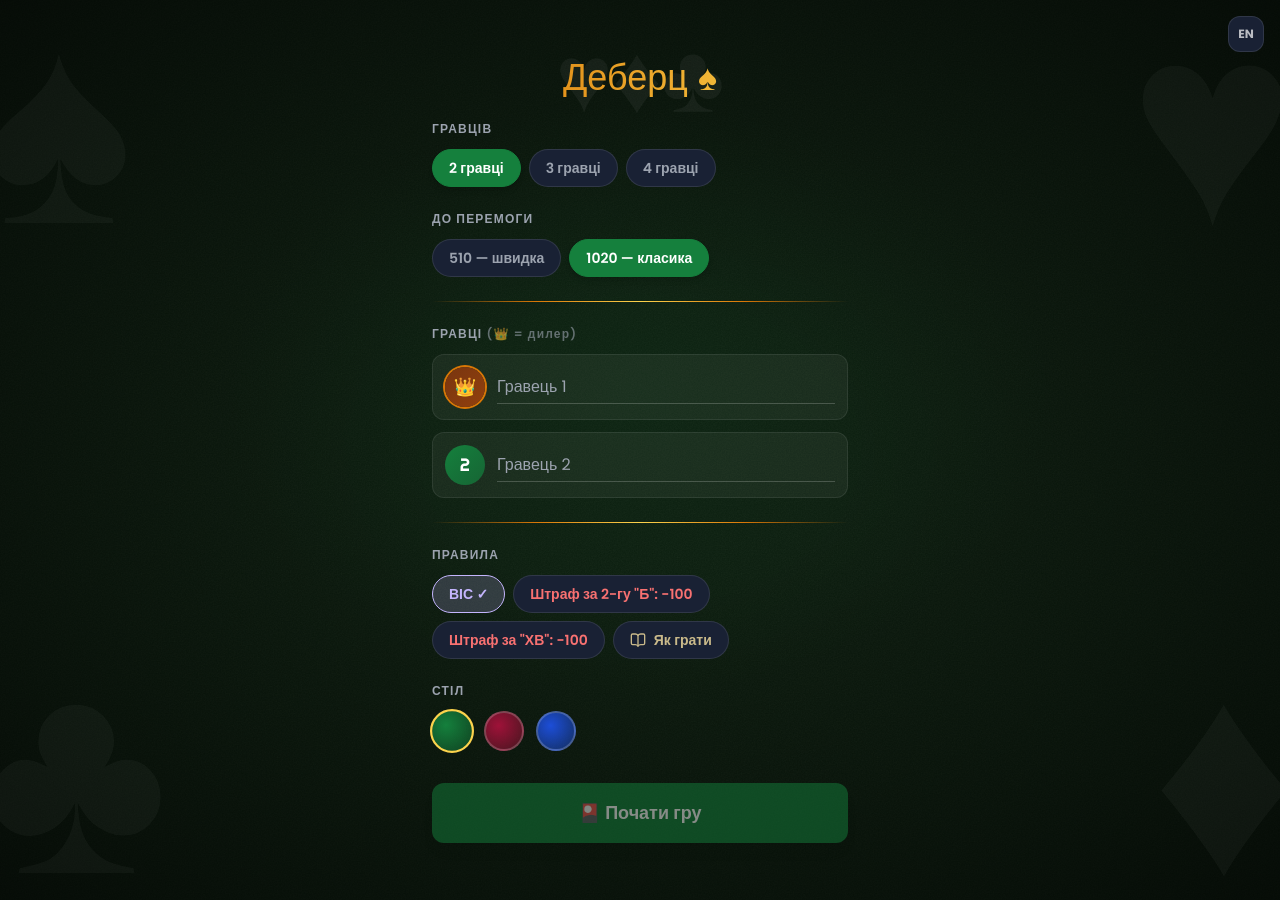
Scenario: SetupScreen — duplicate player names › blocks start and shows a warning on an exact duplicate name
Type "Іван" into the dropdown with placeholder "Гравець 1".
click(666, 387); type("Іван")  # box top-left (497, 370), bottom-right (835, 404)
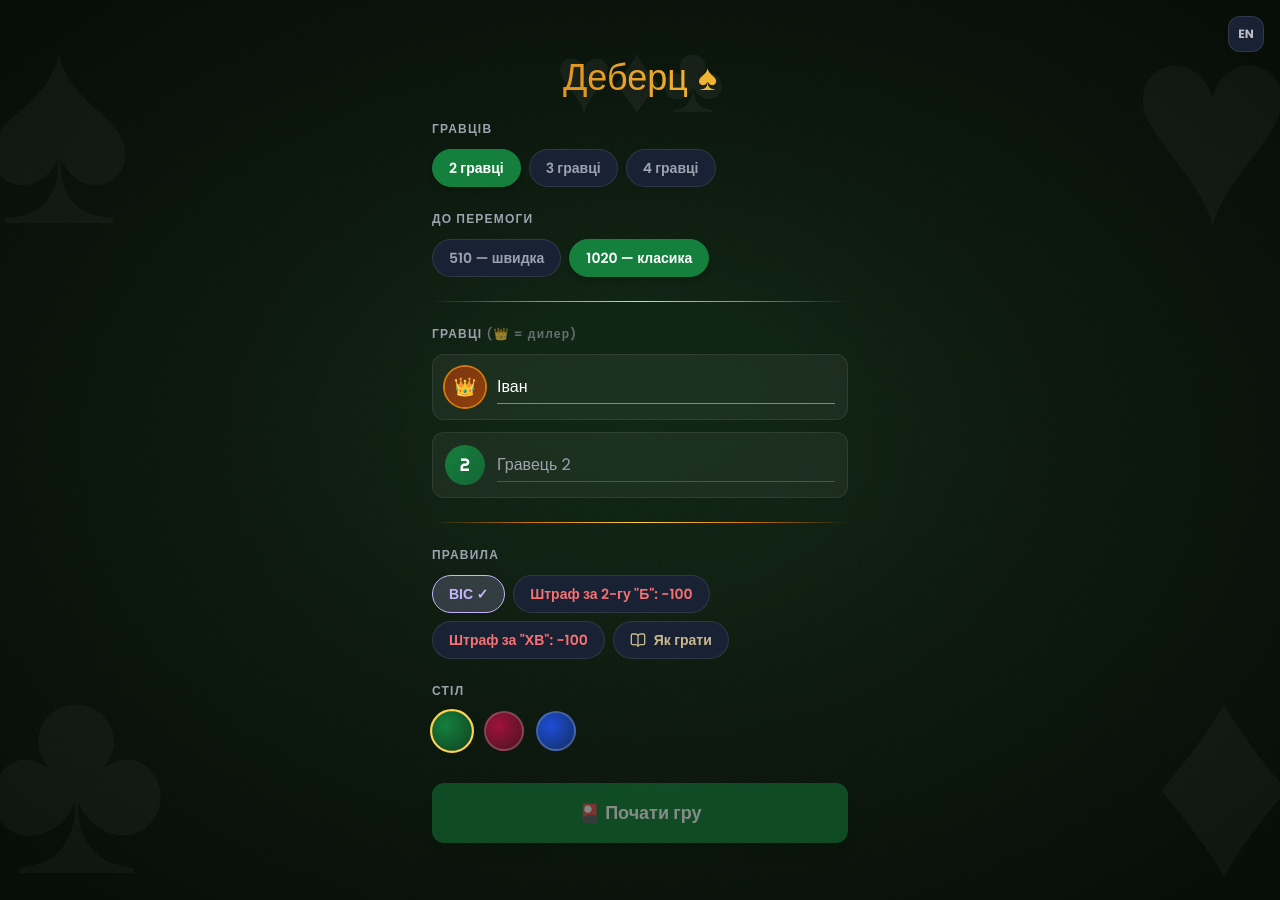
Type "Іван" into the dropdown with placeholder "Гравець 2".
click(666, 465); type("Іван")  # box top-left (497, 448), bottom-right (835, 482)
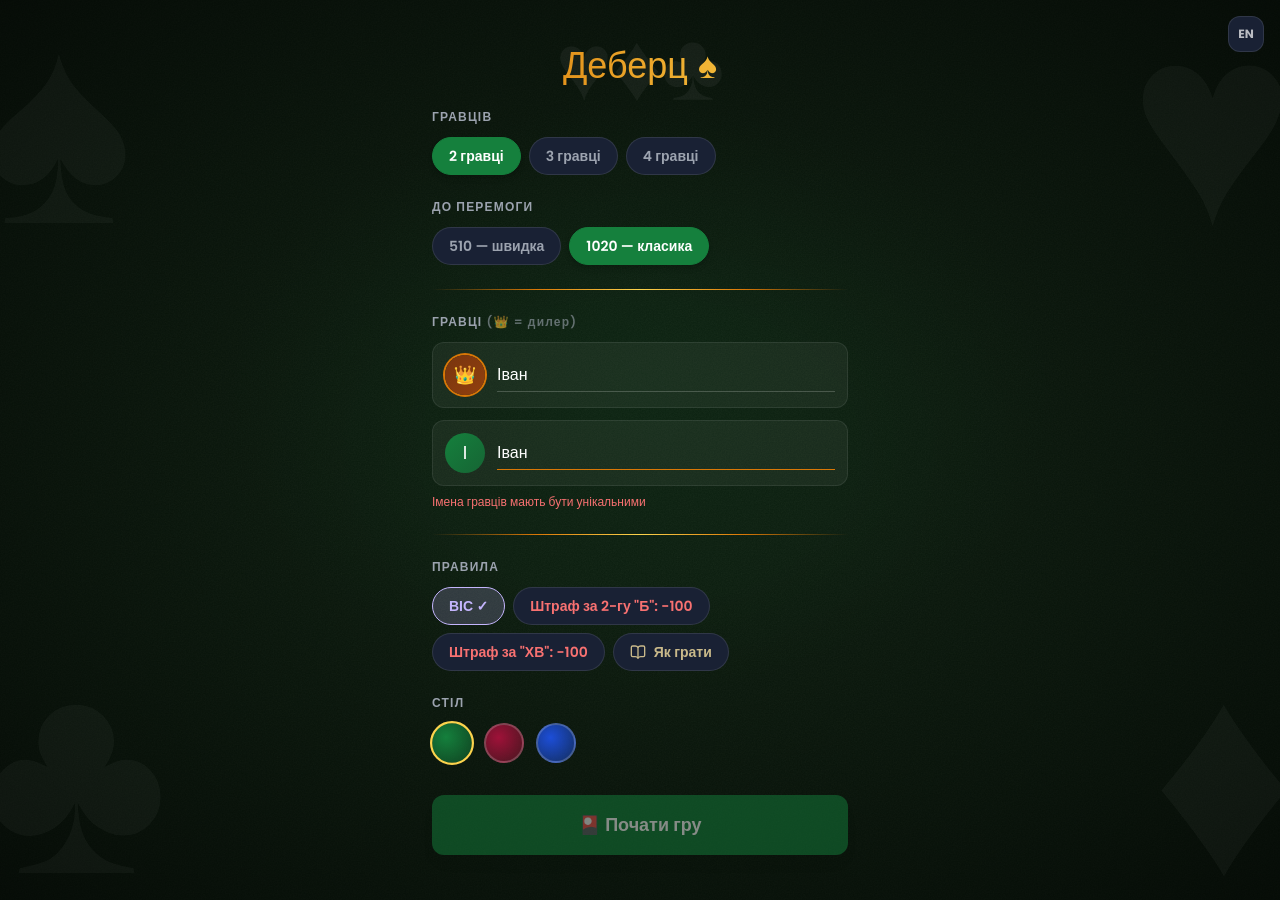
Expected: the button "🎴 Почати гру" is disabled, top-left (432, 795), bottom-right (848, 855)
Result: the text "Імена гравців мають бути унікальними" is shown at top-left (432, 493), bottom-right (646, 510)
